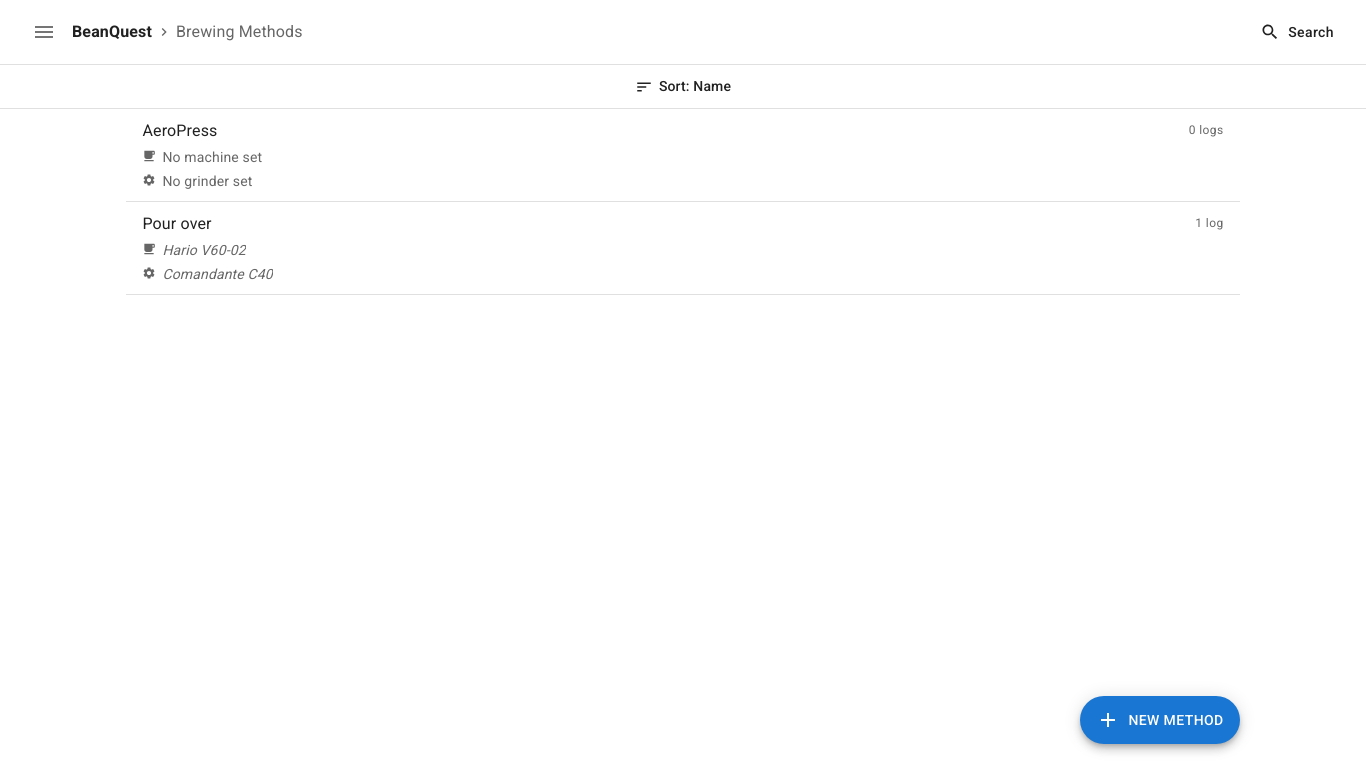
Scenario: BrewingMethodsPage › keeps the form open and shows an error if creating a method fails
This screenshot has width=1366, height=768.
Expected: the text "Pour over" is shown, [142,212,212,236]
Click the button with aria-label "New brewing method". click: [1160, 720]
box: [1080,696,1240,744]
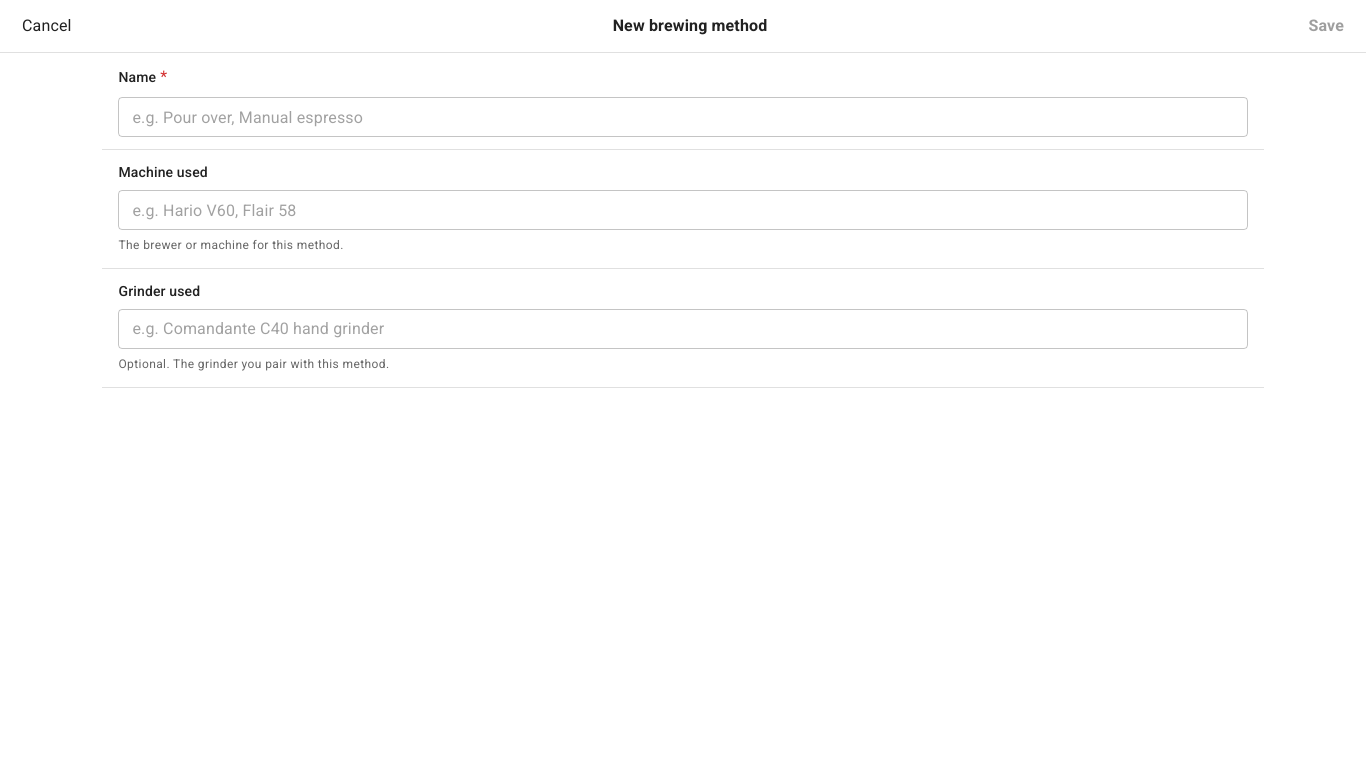
Type "French press" into the field with placeholder "e.g. Pour over, Manual espresso". click: [683, 117]
box: [118,97,1248,137]
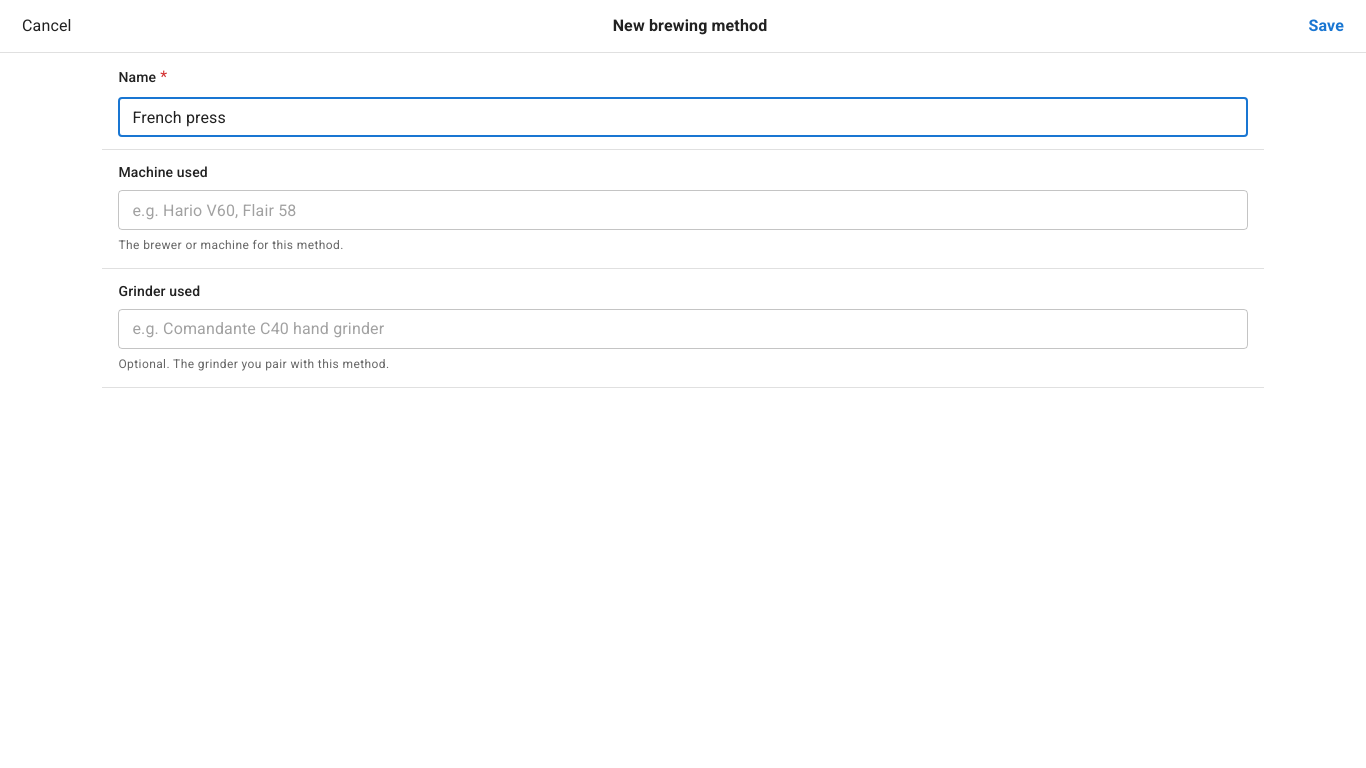
Click the button "Save". click: [1326, 26]
box: [1302,13,1350,39]
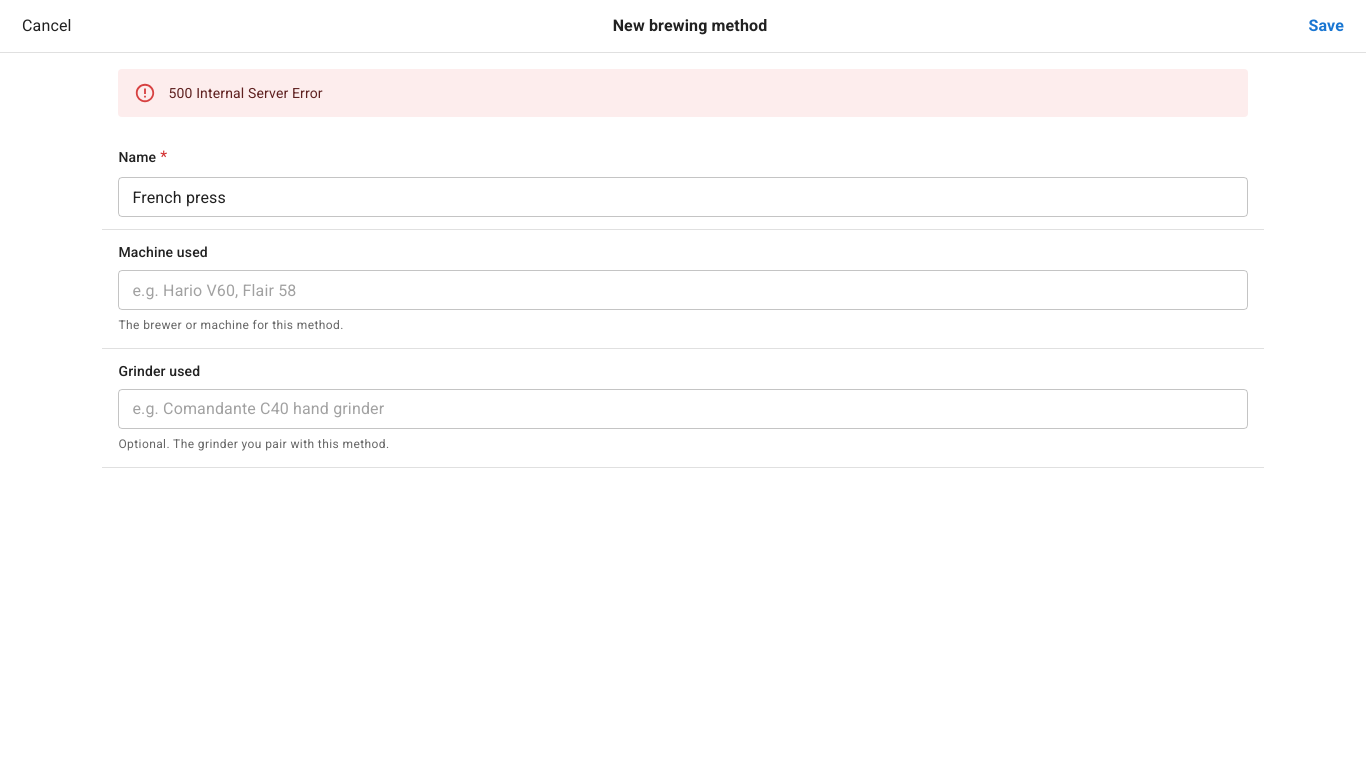
Expected: the text "500 Internal Server Error" is shown, [168,85,323,101]
